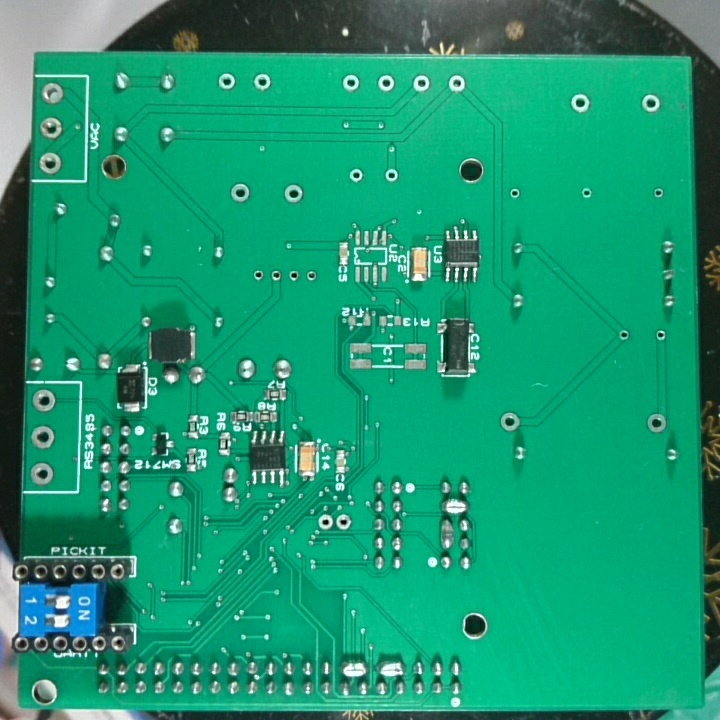F: (28, 423, 58, 453), (28, 386, 57, 417), (27, 460, 57, 488), (38, 79, 65, 109), (38, 115, 65, 143), (280, 180, 306, 209), (37, 149, 64, 176), (497, 408, 523, 435), (644, 409, 669, 437), (228, 179, 251, 206), (639, 91, 664, 115), (568, 91, 592, 115), (339, 71, 363, 95), (445, 72, 468, 96), (409, 72, 433, 95), (251, 69, 274, 93), (216, 69, 237, 95), (374, 72, 398, 94), (314, 512, 336, 534), (334, 510, 353, 535), (382, 164, 401, 189), (347, 165, 368, 186), (284, 266, 303, 288), (651, 326, 671, 346), (249, 265, 268, 285), (268, 266, 285, 288), (616, 324, 633, 345), (578, 184, 597, 202), (507, 183, 524, 203), (302, 266, 319, 286), (651, 183, 665, 200)
P: (336, 655, 371, 680), (437, 516, 457, 552), (439, 496, 471, 518), (374, 657, 407, 678)
